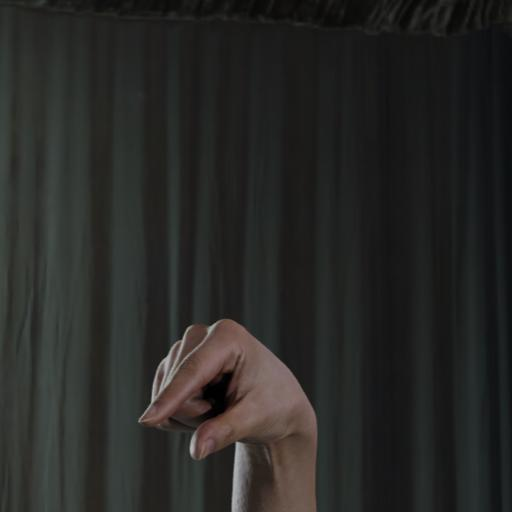Q: (136, 316, 325, 467)
